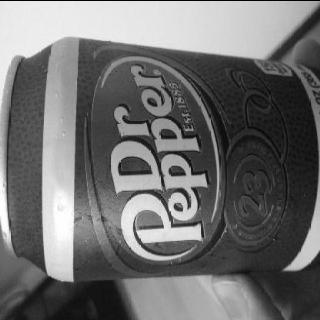alumunium_can: (1, 36, 319, 282)
